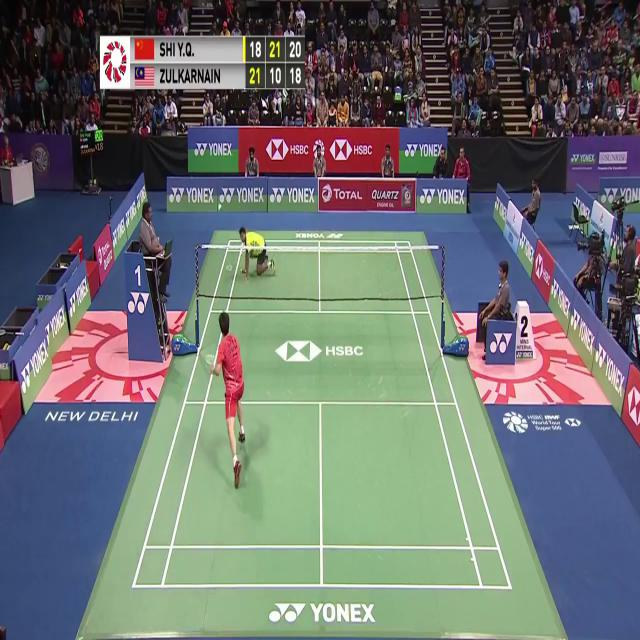Shuttlecock: (215, 202, 221, 214)
